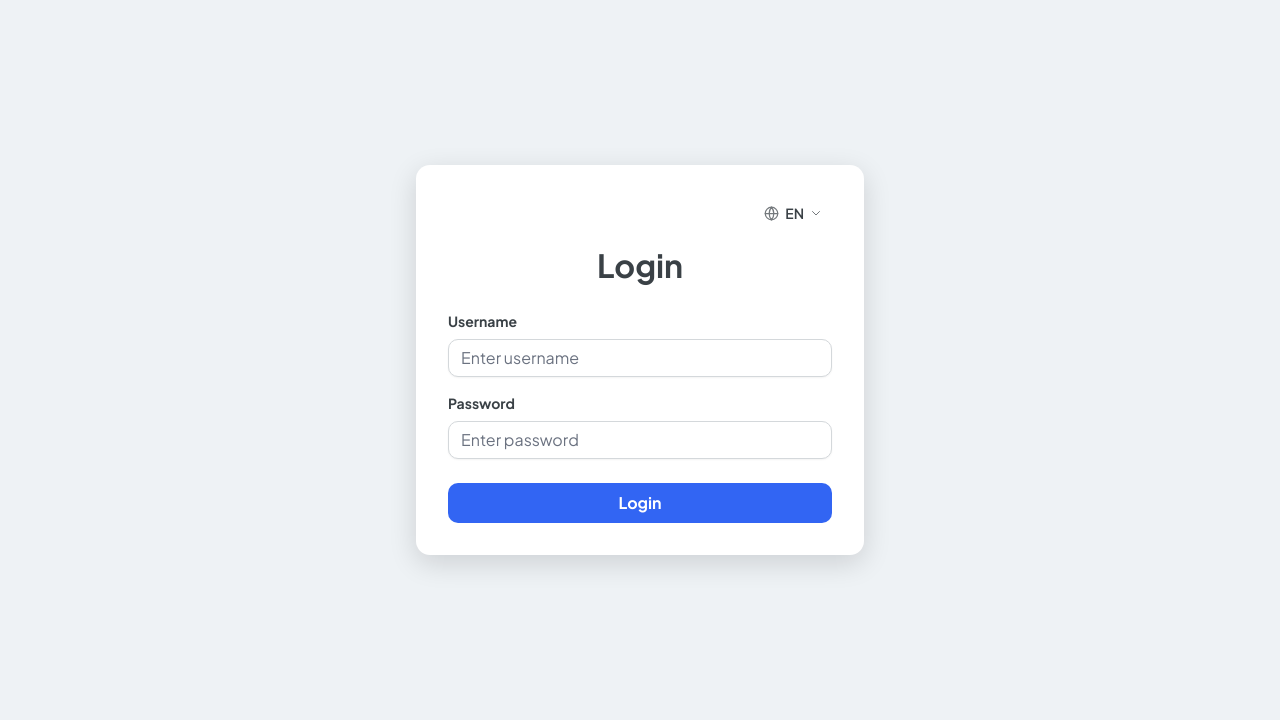
Test: Login Page › displays error message on login failure
Step 1. Type "baduser" into the field labelled "Username" → point(640, 358), box [448,339,832,377]
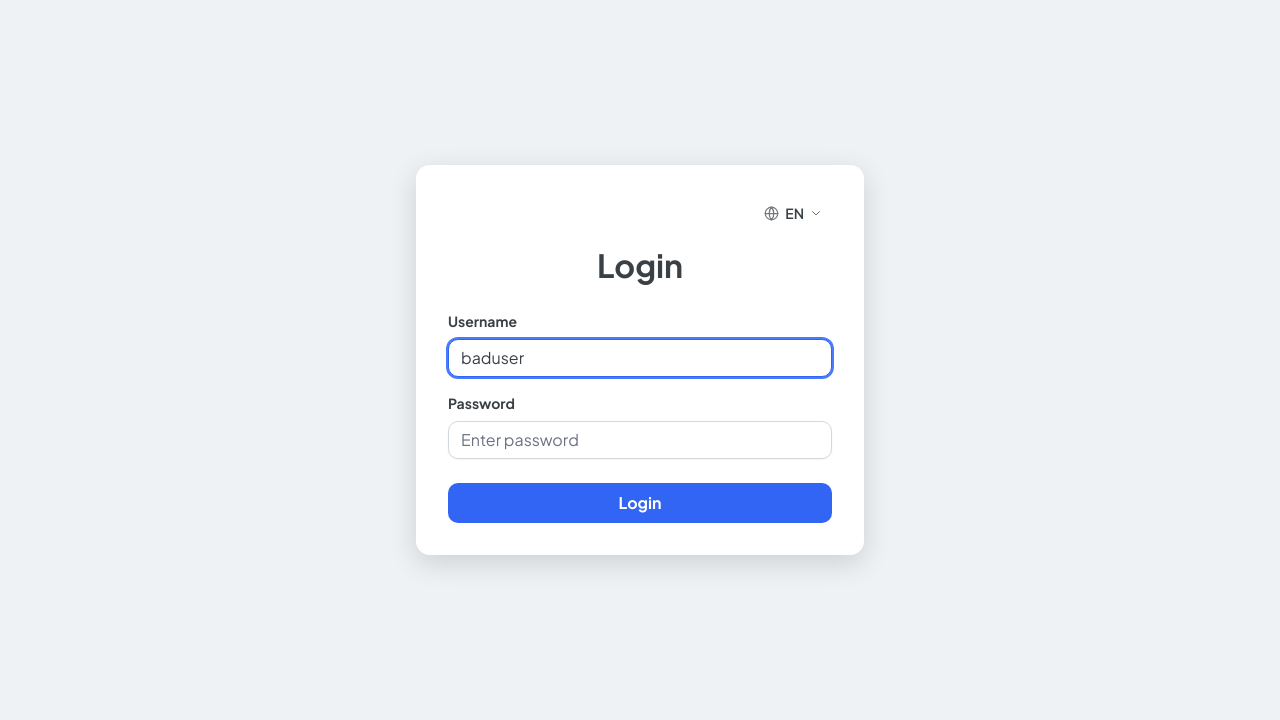
Step 2. Type "badpass" into the password field labelled "Password" → point(640, 440), box [448,421,832,459]
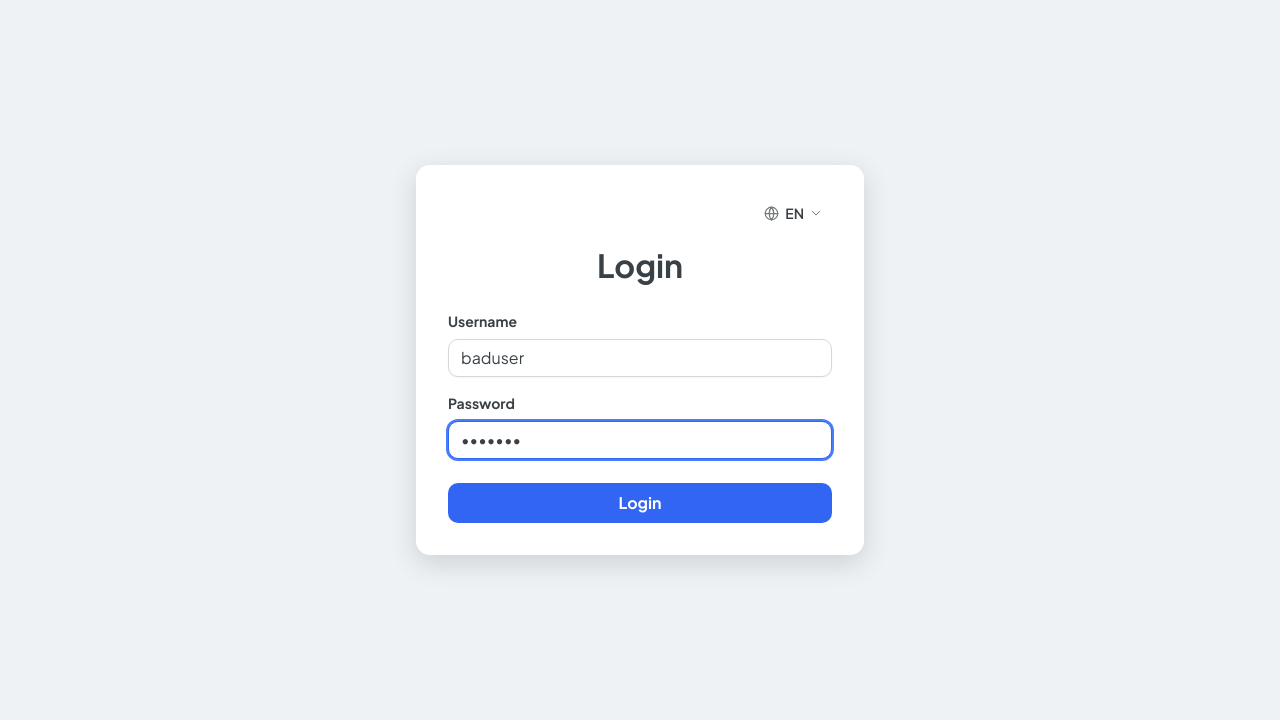
Step 3. Click the button "Login" → point(640, 503), box [448,483,832,523]
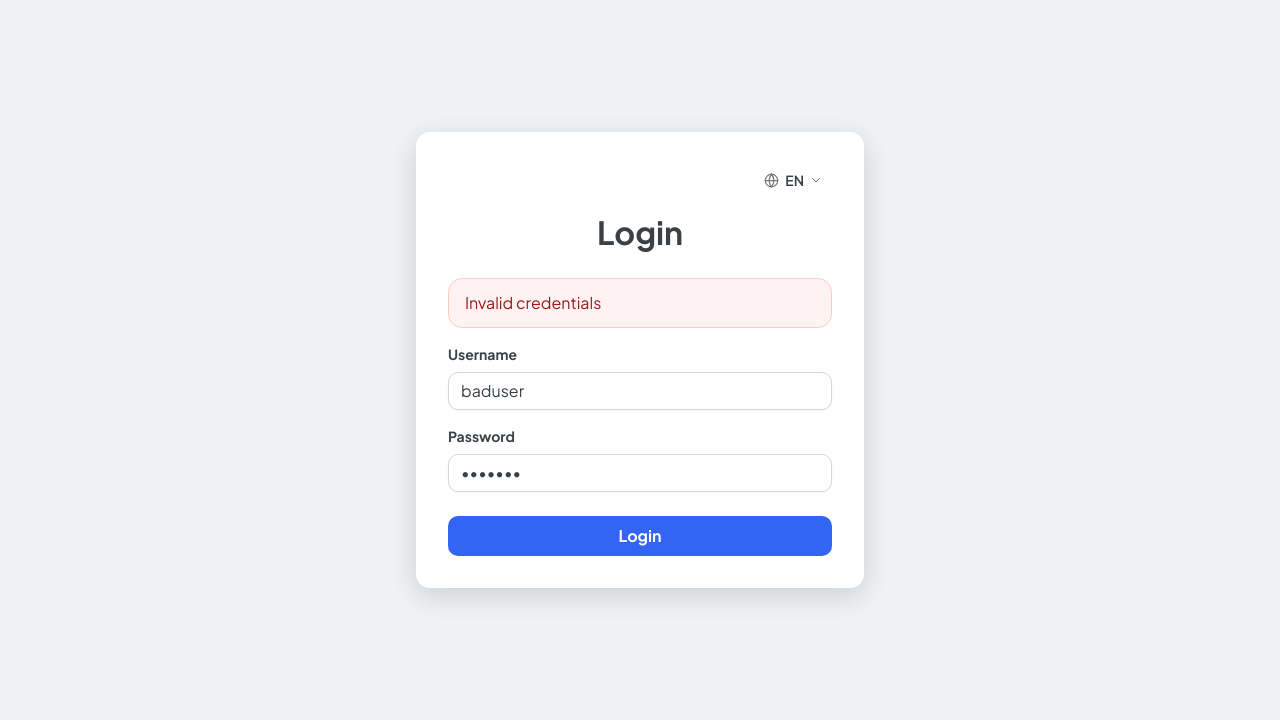
Expected: the text "Invalid credentials" is shown, [448,278,832,328]
